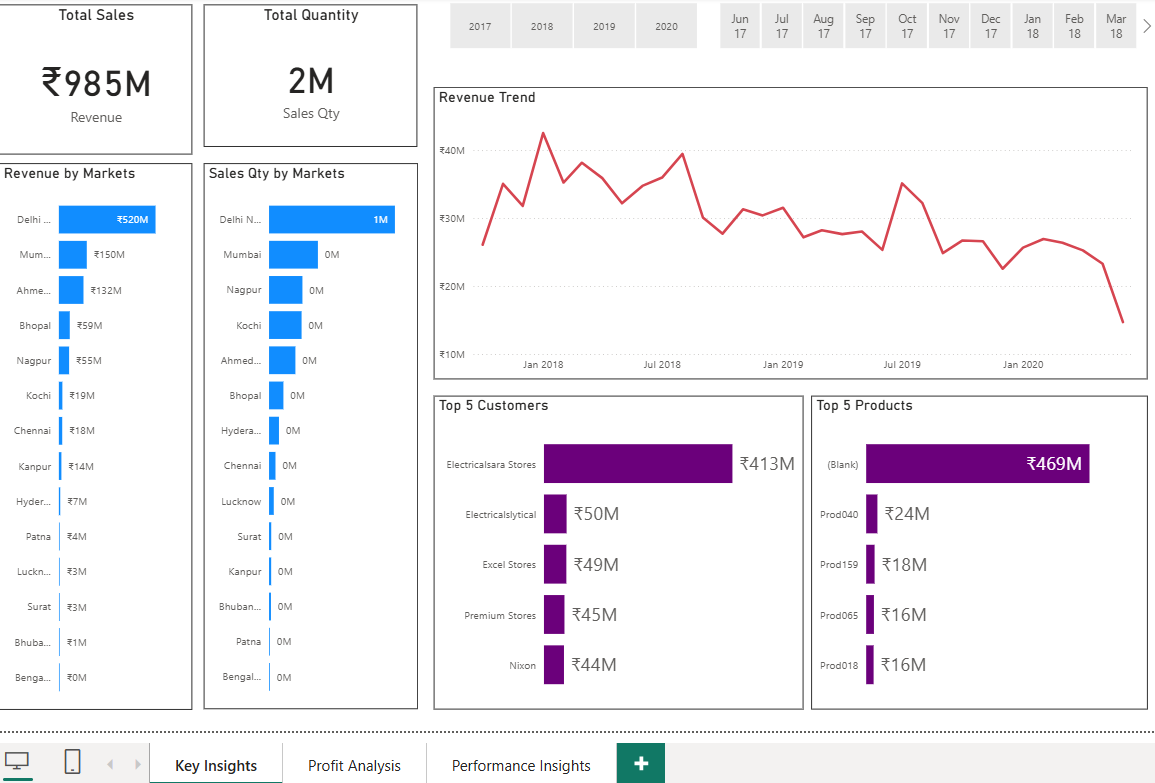

Layout of this report page (visuals, bound fields, positions):
{"tool":"powerbi","page":{"name":"Key Insights","canvas":[1350,850],"ordinal":0},"visuals":[{"type":"card","title":"Total Sales","fields":{"Values":["BaseMeasures (2).Revenue"]},"box":[10.1,8.7,224.3,173.7],"z":0},{"type":"card","title":"Total Quantity","fields":{"Values":["BaseMeasures (2).Sales Qty"]},"box":[247.5,8.7,247.5,165],"z":1000},{"type":"barChart","title":"Revenue by Markets","fields":{"Y":["BaseMeasures (2).Revenue"],"Category":["sales markets.markets_name"]},"box":[10.1,192.5,224.3,632.5],"z":2000},{"type":"barChart","title":"Sales Qty by Markets","fields":{"Y":["BaseMeasures (2).Sales Qty"],"Category":["sales markets.markets_name"]},"box":[247.9,193.1,247.9,631.9],"z":3000},{"type":"slicer","fields":{"Values":["sales date.year"]},"box":[506.5,0,335.8,66.6],"z":4000},{"type":"slicer","fields":{"Values":["sales date.cy_date"]},"box":[818.6,0,531.7,66.5],"z":5000},{"type":"barChart","title":"Top 5 Customers","fields":{"Y":["BaseMeasures (2).Revenue"],"Category":["sales customers.custmer_name"]},"box":[513.8,461.7,428.4,363.3],"z":6000},{"type":"barChart","title":"Top 5 Products","fields":{"Y":["BaseMeasures (2).Revenue"],"Category":["sales products.product_code"]},"box":[950.9,461.7,389.3,363.3],"z":7000},{"type":"lineChart","title":"Revenue Trend","fields":{"Y":["BaseMeasures (2).Revenue"],"Category":["sales date.cy_date"]},"box":[513.8,104.2,826.4,338.7],"z":8000}]}

Visuals, with their boxes on the page's 1350x850 design canvas (x1, y1, x2, y2). These are canvas units, not pixel positions in the 1155x783 screenshot, which may show the page scaled, cropped or inside an application window:
"Total Sales" card: locate(10, 9, 234, 182)
"Total Quantity" card: locate(248, 9, 495, 174)
"Revenue by Markets" barChart: locate(10, 192, 234, 825)
"Sales Qty by Markets" barChart: locate(248, 193, 496, 825)
slicer - sales date.year: locate(506, 0, 842, 67)
slicer - sales date.cy_date: locate(819, 0, 1350, 66)
"Top 5 Customers" barChart: locate(514, 462, 942, 825)
"Top 5 Products" barChart: locate(951, 462, 1340, 825)
"Revenue Trend" lineChart: locate(514, 104, 1340, 443)
